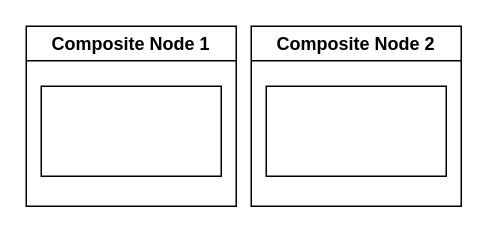
Image size: 488x233. Some labels were removed from this diagram. Each missing label, with the centre of its shape:
"Node 1.1" goes at (130,130).
"Node 2.1" goes at (355,130).
